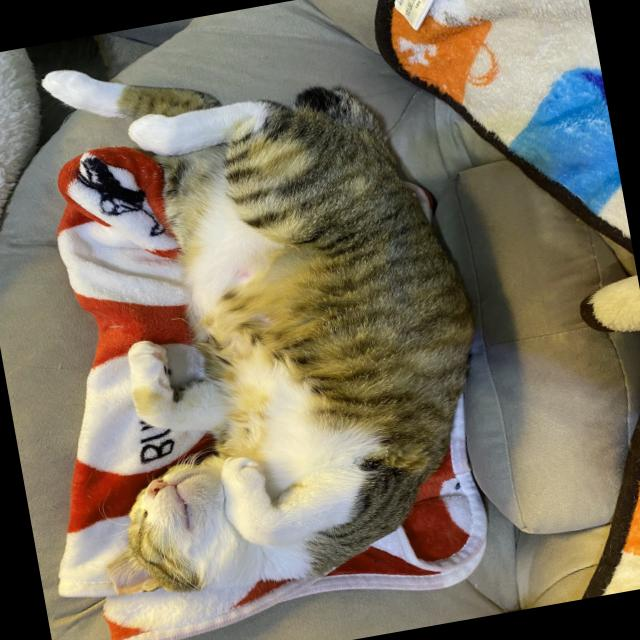cat2: (26, 2, 522, 620)
